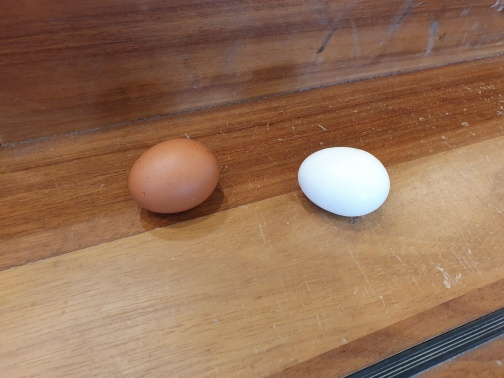egg: (128, 138, 220, 214), (297, 146, 391, 217)
